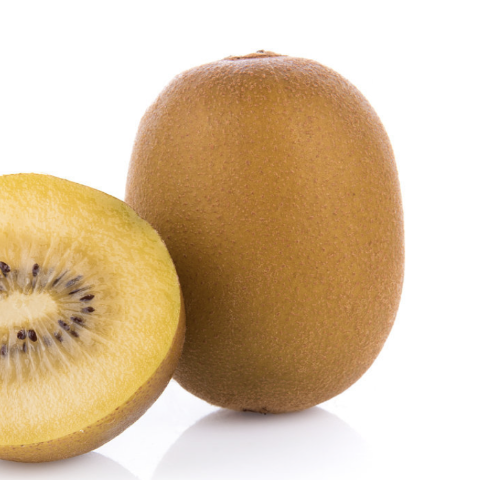kiwi: (78, 36, 458, 455)
